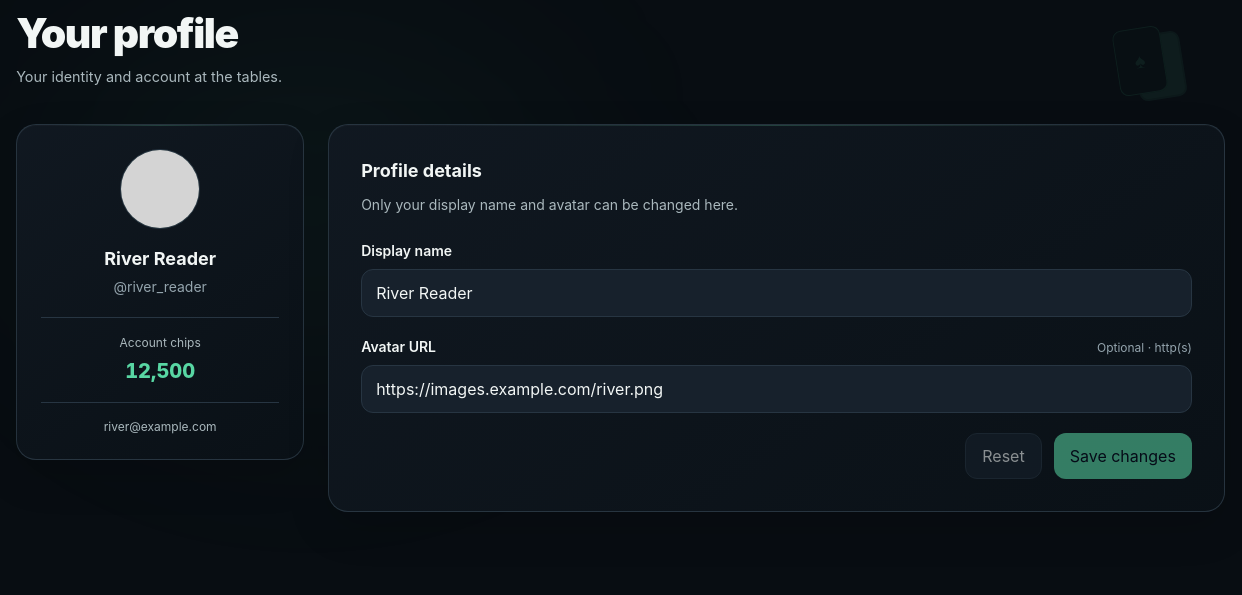
ProfilePage › preserves the edit and displays a safe message when the backend rejects it
Replace the text in the field labelled "Display name" with "Still Here". click: (777, 294)
box: [361,270,1192,318]
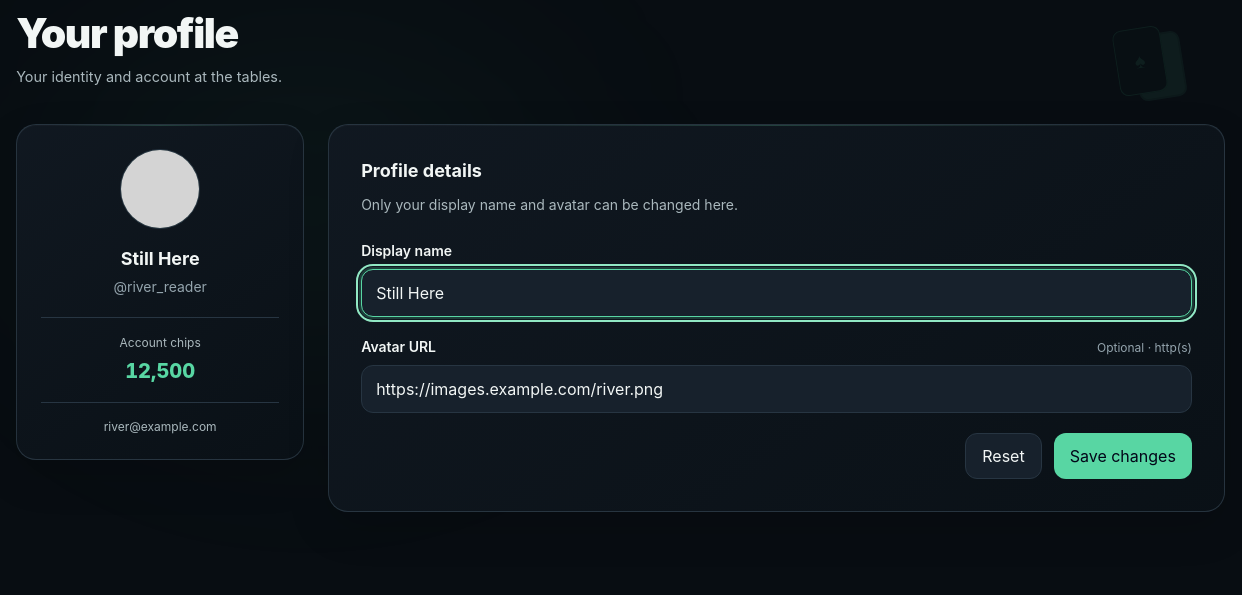
Click the button "Save changes". click: (1123, 456)
box: [1054,434,1192,480]
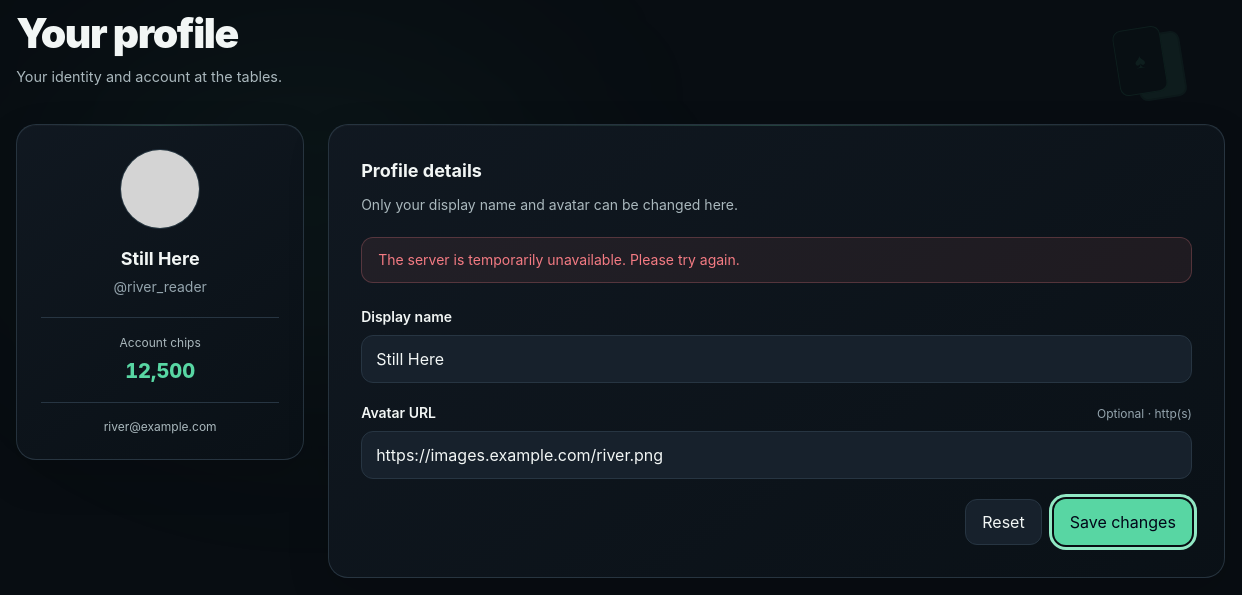
Expected: the message shows "The server is temporarily unavailable.", [378,252,740,268]
